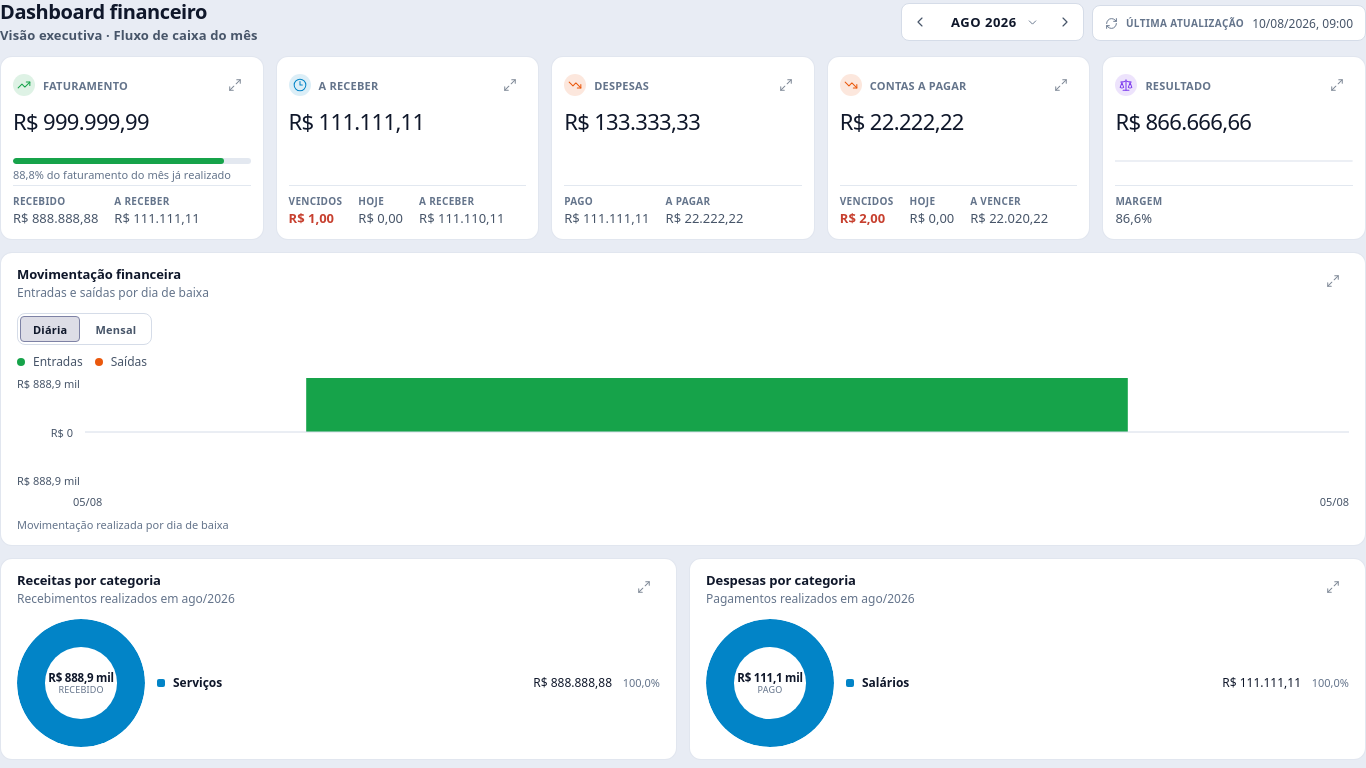
Test: PRE-F13-HOME-POLISH-1 — expansão Home caixa › Z1/Z2/Z3 — Faturamento abre modal com billing CASH
Expected: the element named "Resumo financeiro de caixa do mês" is shown, [0, 56, 1365, 240]
Expected: the button "Faturamento" is shown, [0, 56, 264, 240]
Click the 1st button named "Expandir" at (235, 85), box [219, 69, 251, 101]
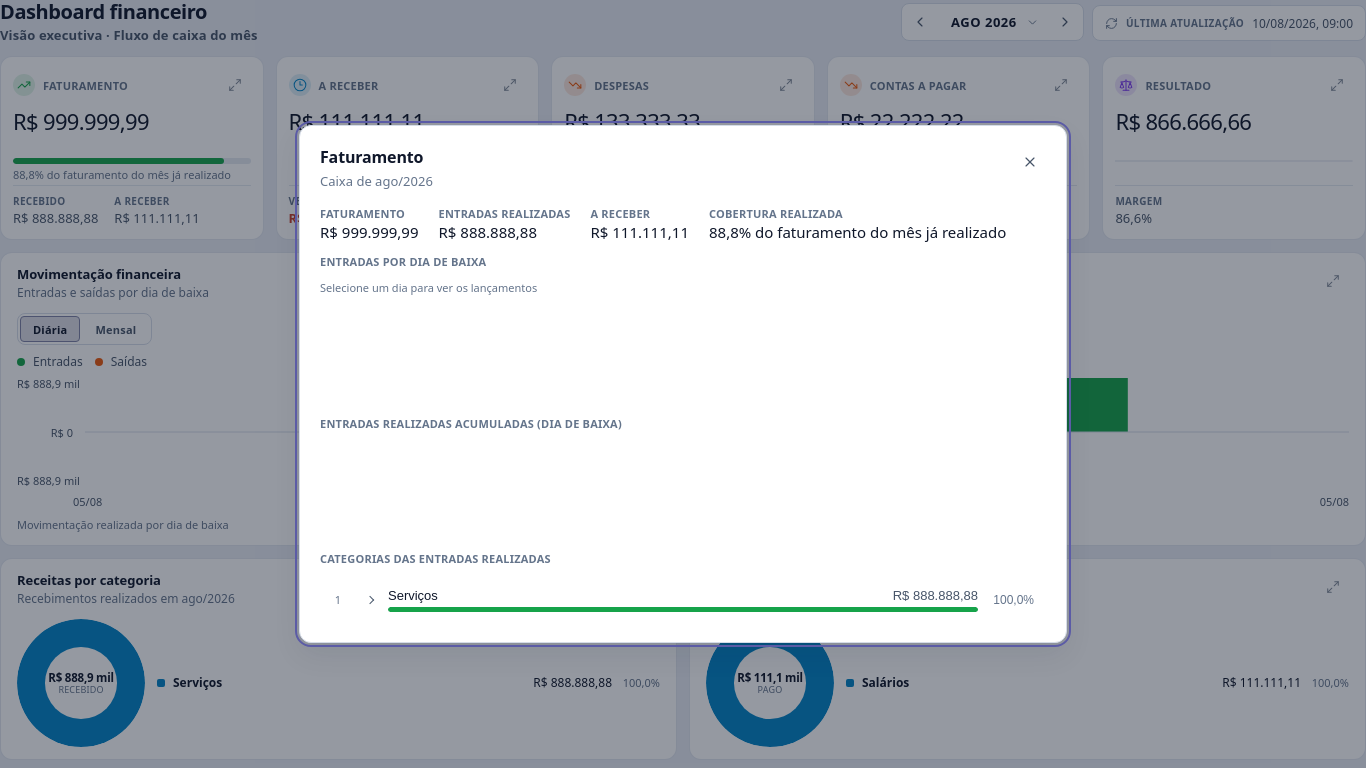
Expected: the heading "Faturamento" is shown, [320, 146, 433, 168]
Expected: the text "R$ 999.999,99" is shown, [320, 222, 418, 242]
Expected: the text "Entradas realizadas" is shown, [438, 206, 570, 221]
